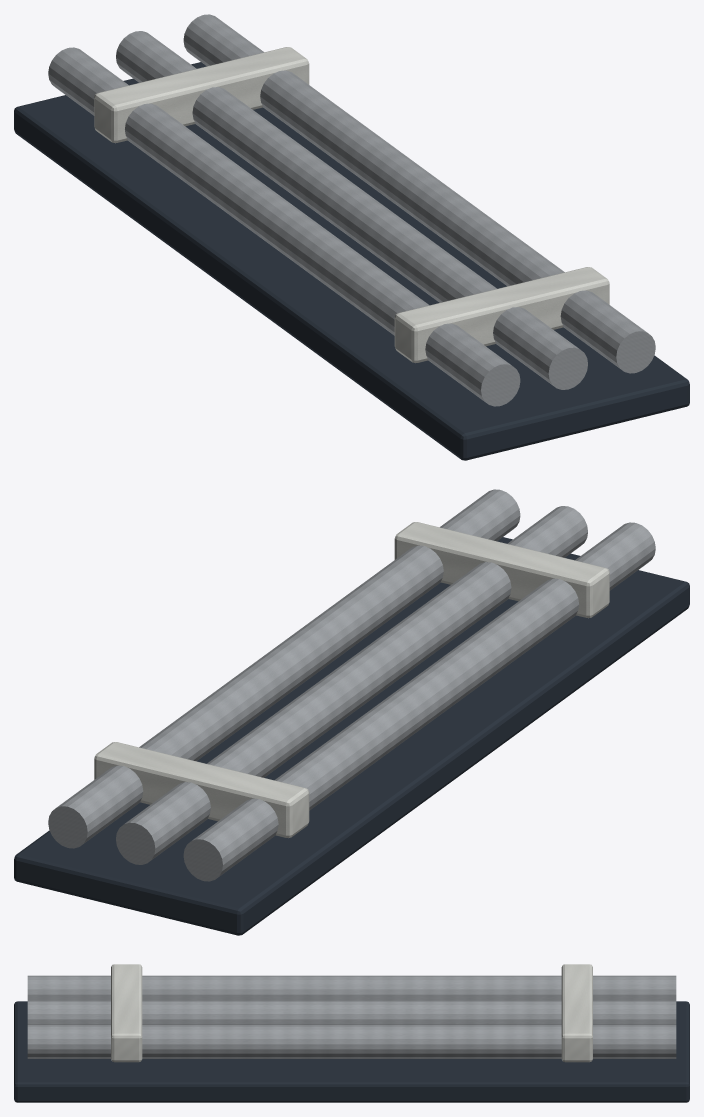
The model's file is external_feed_lines.glb.
The picture shows the model from 3 angles, top to bottom: view 1: azimuth 30°, elevation 25°; view 2: azimuth 150°, elevation 25°; view 3: azimuth 270°, elevation 25°; orthographic projection. The views are drawn at different scales.
Visible parts, largest first — view 1: Line_Base, Feed_Line, Feed_Line.002, Feed_Line.001, Line_Clamp, Line_Clamp.001; view 2: Line_Base, Feed_Line, Feed_Line.002, Feed_Line.001, Line_Clamp.001, Line_Clamp; view 3: Line_Base, Feed_Line.002, Feed_Line, Feed_Line.001, Line_Clamp, Line_Clamp.001.
Boxes of the visible parts, x1,y1,x2,y2 form: Line_Base: [14, 62, 689, 460]; Feed_Line: [48, 47, 520, 406]; Feed_Line.002: [183, 14, 655, 373]; Feed_Line.001: [116, 31, 587, 389]; Line_Clamp: [394, 267, 609, 362]; Line_Clamp.001: [94, 47, 309, 143]; Line_Base: [14, 537, 689, 935]; Feed_Line: [183, 522, 655, 881]; Feed_Line.002: [48, 489, 520, 848]; Feed_Line.001: [116, 506, 587, 864]; Line_Clamp.001: [94, 742, 309, 837]; Line_Clamp: [394, 522, 609, 618]; Line_Base: [14, 1001, 689, 1102]; Feed_Line.002: [27, 1025, 676, 1058]; Feed_Line: [27, 975, 676, 1000]; Feed_Line.001: [27, 1000, 676, 1024]; Line_Clamp: [111, 964, 142, 1062]; Line_Clamp.001: [561, 964, 592, 1062].
Size of the model in its own units: 0.44 by 0.155 by 1.5.
Materials: 3 (2 with a texture image).
